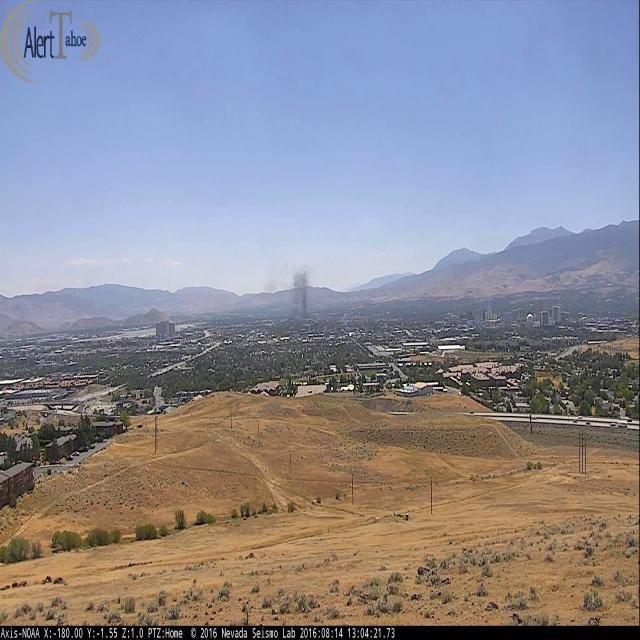smoke: (282, 262, 312, 326)
